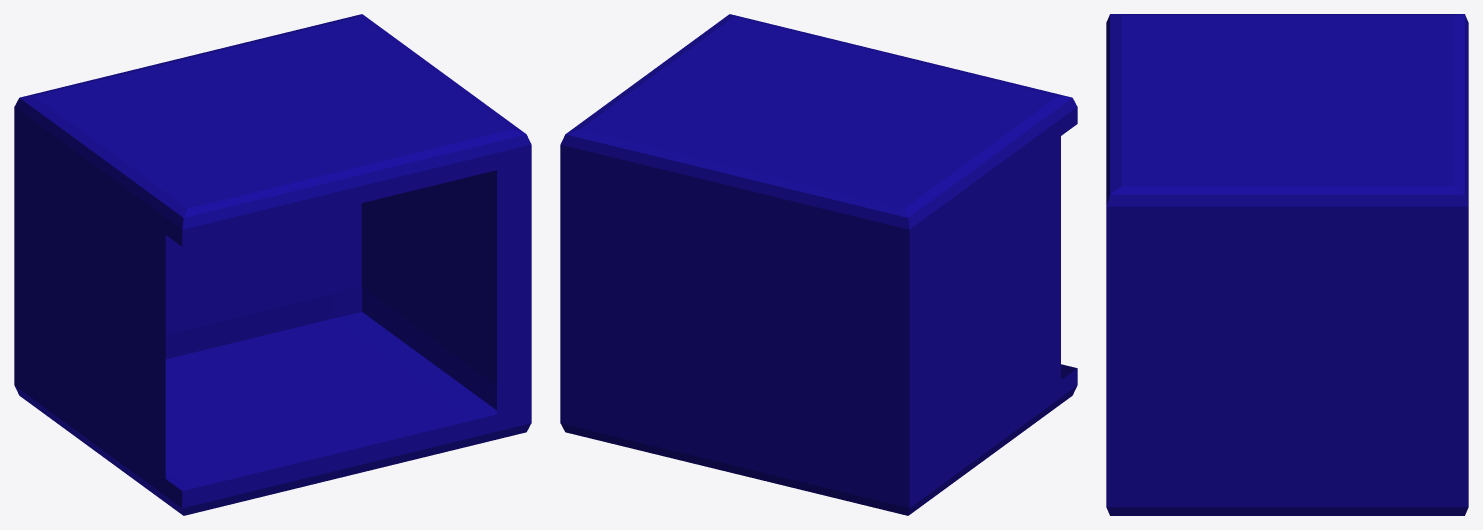
File: Case.fbx
The picture shows the model from 3 angles, left to right: view 1: azimuth 30°, elevation 25°; view 2: azimuth 150°, elevation 25°; view 3: azimuth 270°, elevation 25°; orthographic projection. The views are drawn at different scales.
Parts seen in each view (by area): view 1: Case; view 2: Case; view 3: Case.
Boxes of the visible parts, bbox=[...] form: Case: bbox=[14, 14, 531, 515]; Case: bbox=[560, 14, 1077, 515]; Case: bbox=[1106, 14, 1468, 515].
Bounding box in the file's own units: 23.62 × 19.69 × 19.69.
